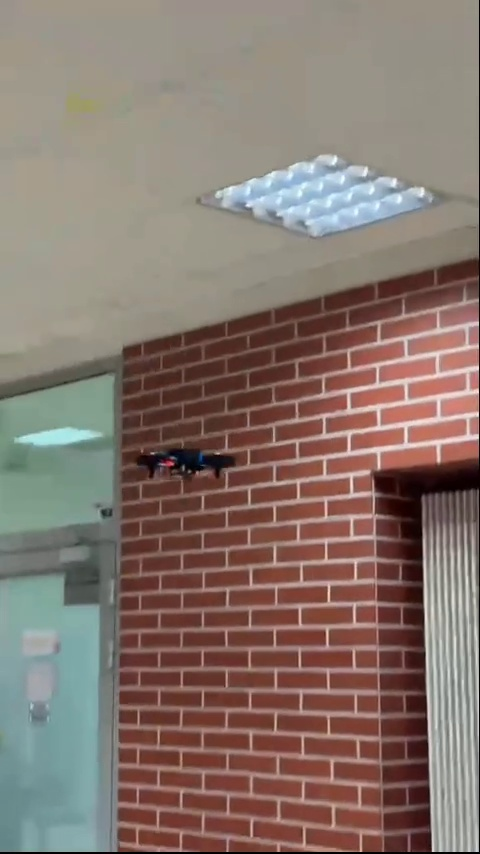drone: (134, 439, 235, 486)
